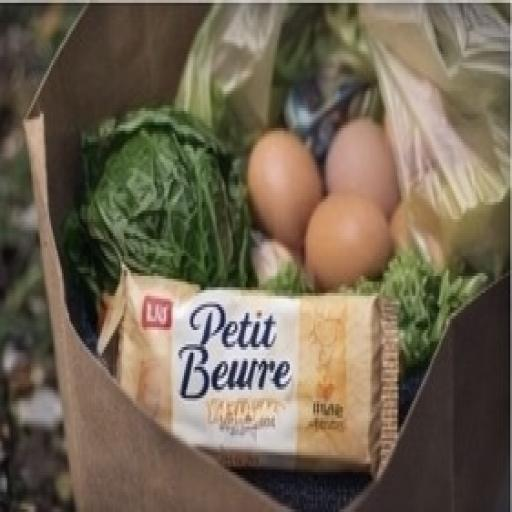petit-beurre: (79, 228, 430, 493)
